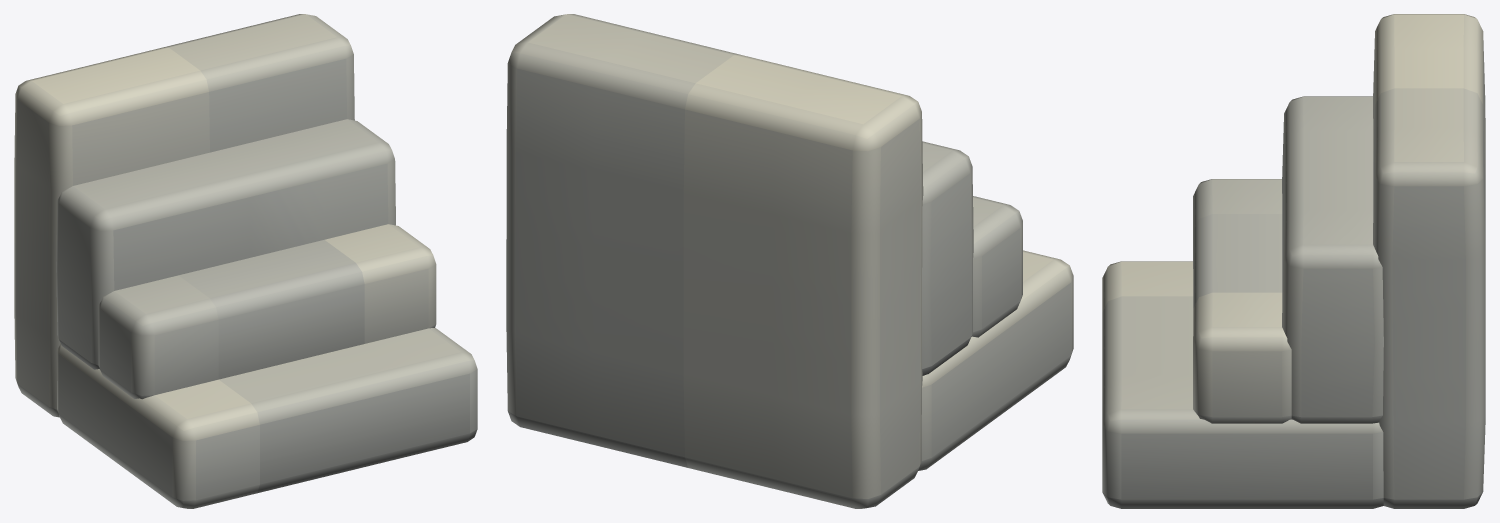
File: stair_stone1_straight_LOD_setup.fbx
The picture shows the model from 3 angles, left to right: view 1: azimuth 30°, elevation 25°; view 2: azimuth 150°, elevation 25°; view 3: azimuth 270°, elevation 25°; orthographic projection. The views are drawn at different scales.
Visible parts, largest first — view 1: stair_stone1_straight_LOD0; view 2: stair_stone1_straight_LOD0; view 3: stair_stone1_straight_LOD0.
Boxes of the visible parts, left/top/right/bottom form: stair_stone1_straight_LOD0: left=14, top=14, right=477, bottom=508; stair_stone1_straight_LOD0: left=506, top=14, right=1073, bottom=508; stair_stone1_straight_LOD0: left=1102, top=14, right=1485, bottom=508.
Size of what is drawn, in the model's own units: 106 by 105 by 105.
